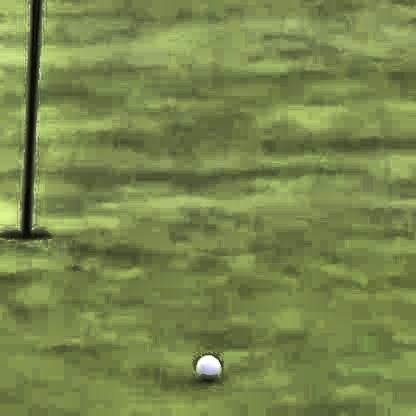golfball: (194, 348, 219, 378)
